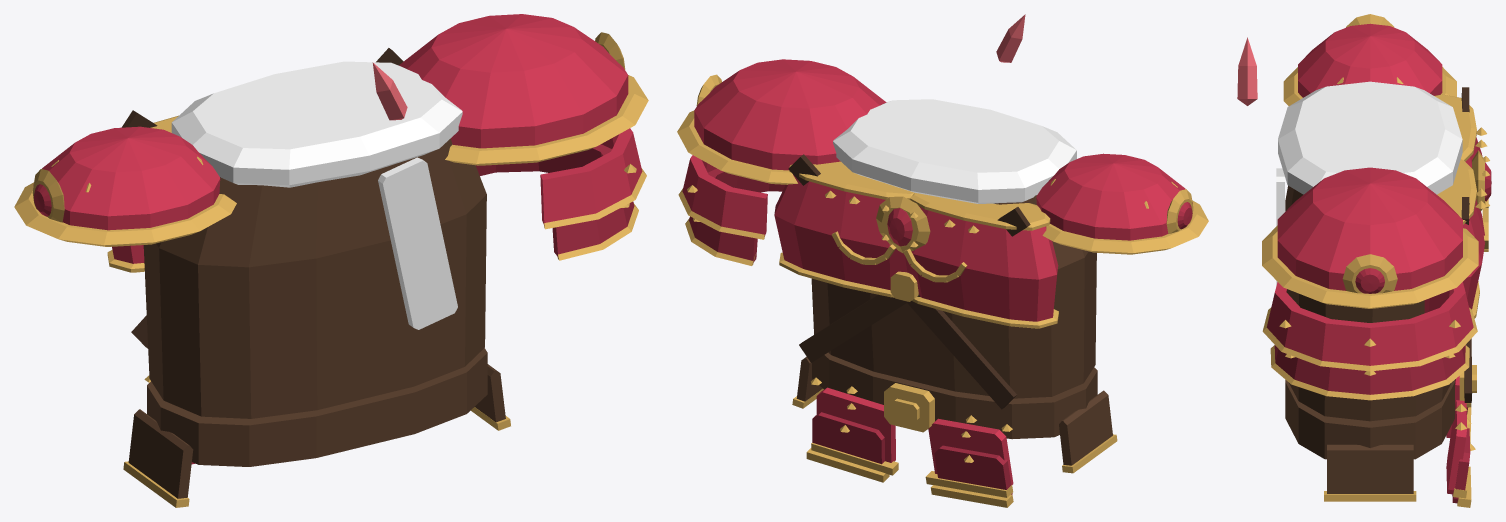
The model's file is look3_armor_dualblade_relic.fbx.
3 views of the same model, side by side, from view 1: azimuth 30°, elevation 25°; view 2: azimuth 150°, elevation 25°; view 3: azimuth 270°, elevation 25° (orthographic). The views are drawn at different scales.
Visible parts, largest first — view 1: Main, Tasset; view 2: Main, Tasset; view 3: Main, Tasset.
Part boxes in pixels (<box>): Main: <box>14,14,648,466</box>; Tasset: <box>123,364,510,507</box>; Main: <box>677,14,1208,439</box>; Tasset: <box>792,356,1117,507</box>; Main: <box>1237,14,1491,459</box>; Tasset: <box>1324,376,1475,507</box>.
Bounding box in the file's own units: 427 × 321 × 176.
